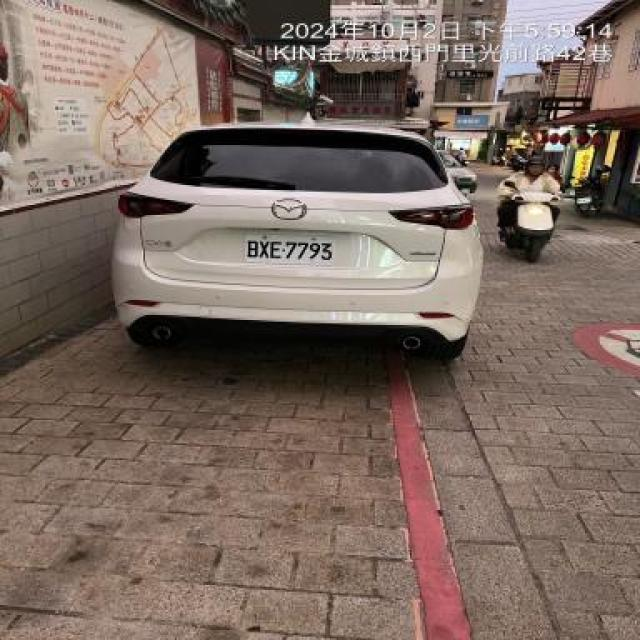illegalparking: (96, 89, 514, 423)
